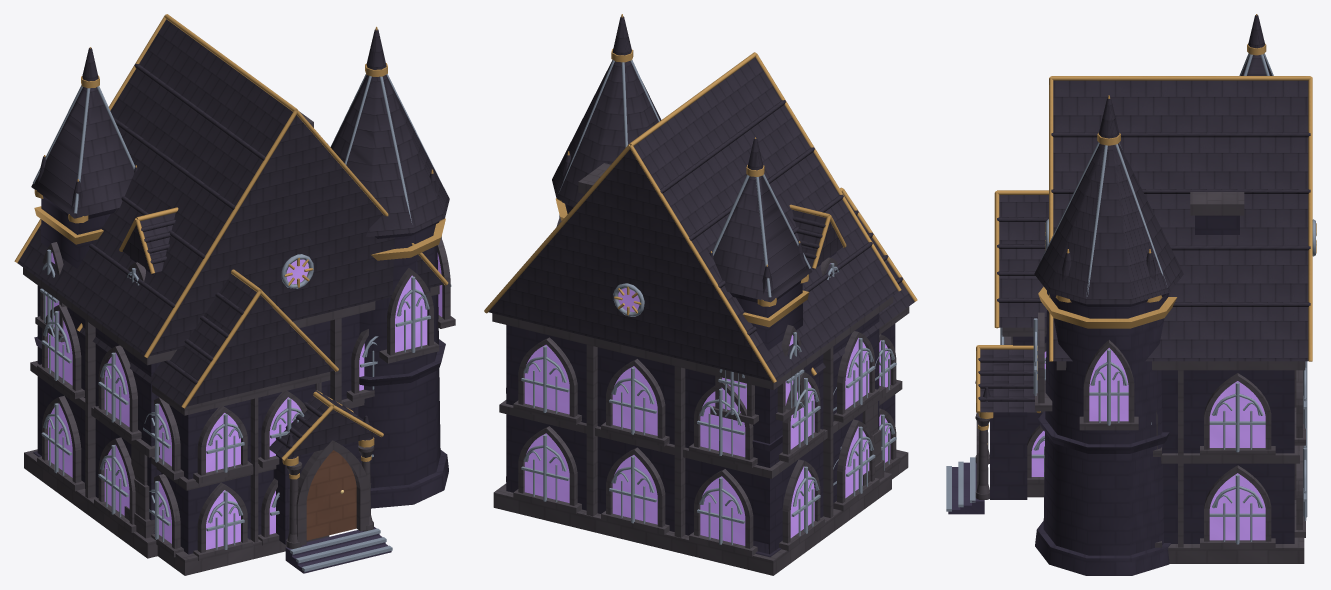
The model's file is obsidian-manor.glb.
3 renders of one model, left to right at view 1: azimuth 30°, elevation 25°; view 2: azimuth 150°, elevation 25°; view 3: azimuth 270°, elevation 25°, orthographic. The views are drawn at different scales.
Size of the model in its own units: 6.72 by 8.86 by 6.6.
Materials: 9 (9 with a texture image).
